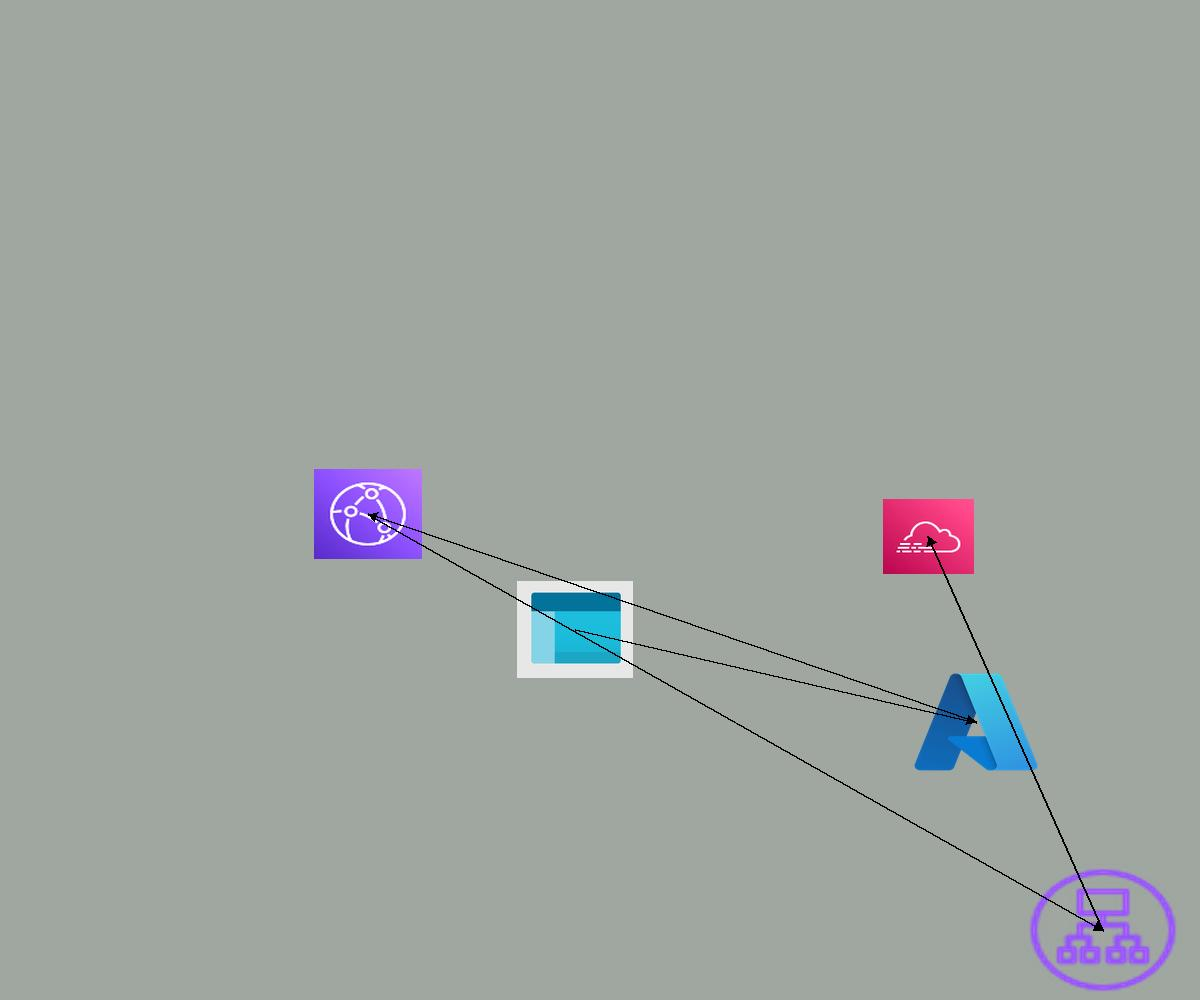AWS-CloudFront: (314, 469, 422, 559)
AWS-CloudTrail: (883, 499, 974, 574)
AWS-Res_Elastic-Load-Balancing_Application-Load-Balancer: (1024, 864, 1182, 996)
Azure_management-portal: (517, 581, 633, 678)
Azure_services: (909, 666, 1043, 778)
